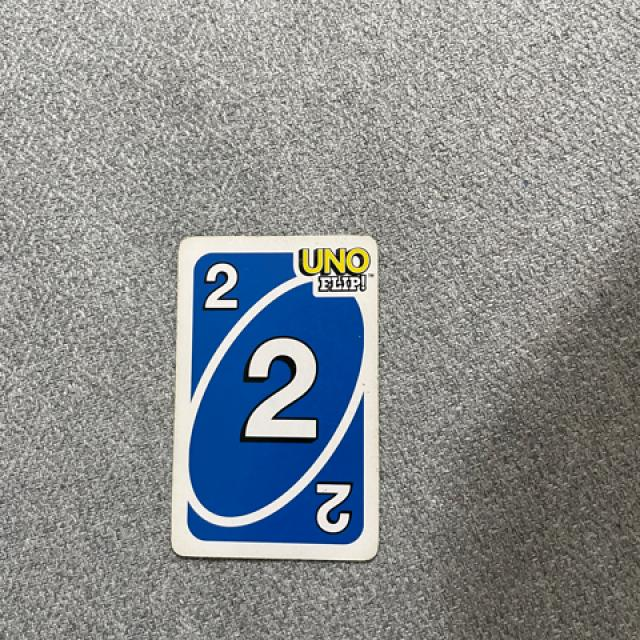lblue-2: (186, 246, 252, 324)
